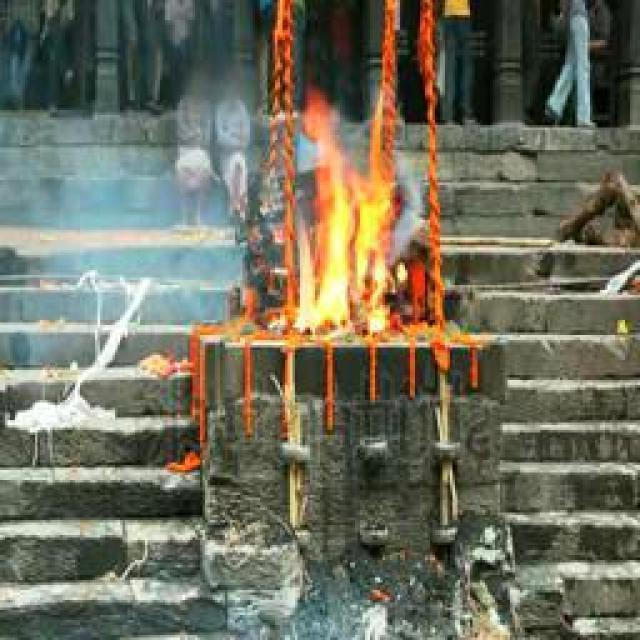Fire: (281, 120, 392, 333)
